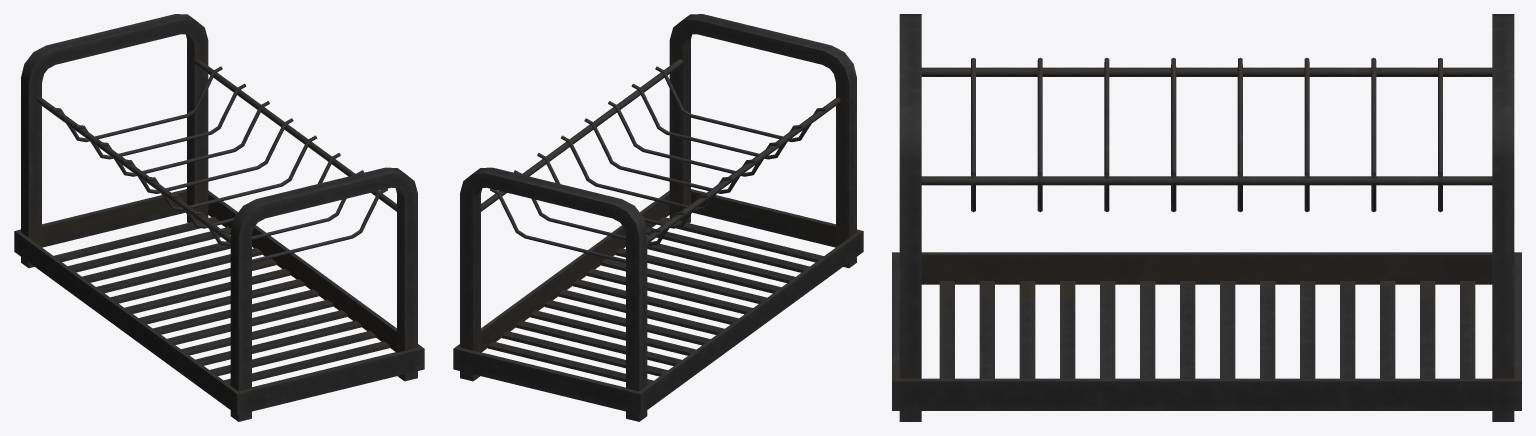
File: SM_DishesRack.fbx
3 renders of one model, left to right at view 1: azimuth 30°, elevation 25°; view 2: azimuth 150°, elevation 25°; view 3: azimuth 270°, elevation 25°, orthographic. The views are drawn at different scales.
Visible parts, largest first — view 1: SM_DishesRack_LOD0; view 2: SM_DishesRack_LOD0; view 3: SM_DishesRack_LOD0.
Boxes of the visible parts, x1,y1,x2,y2 form: SM_DishesRack_LOD0: (14, 14, 424, 421); SM_DishesRack_LOD0: (453, 14, 863, 421); SM_DishesRack_LOD0: (892, 14, 1521, 421).
Size of the model in its own units: 22.88 by 47.22 by 24.64.
